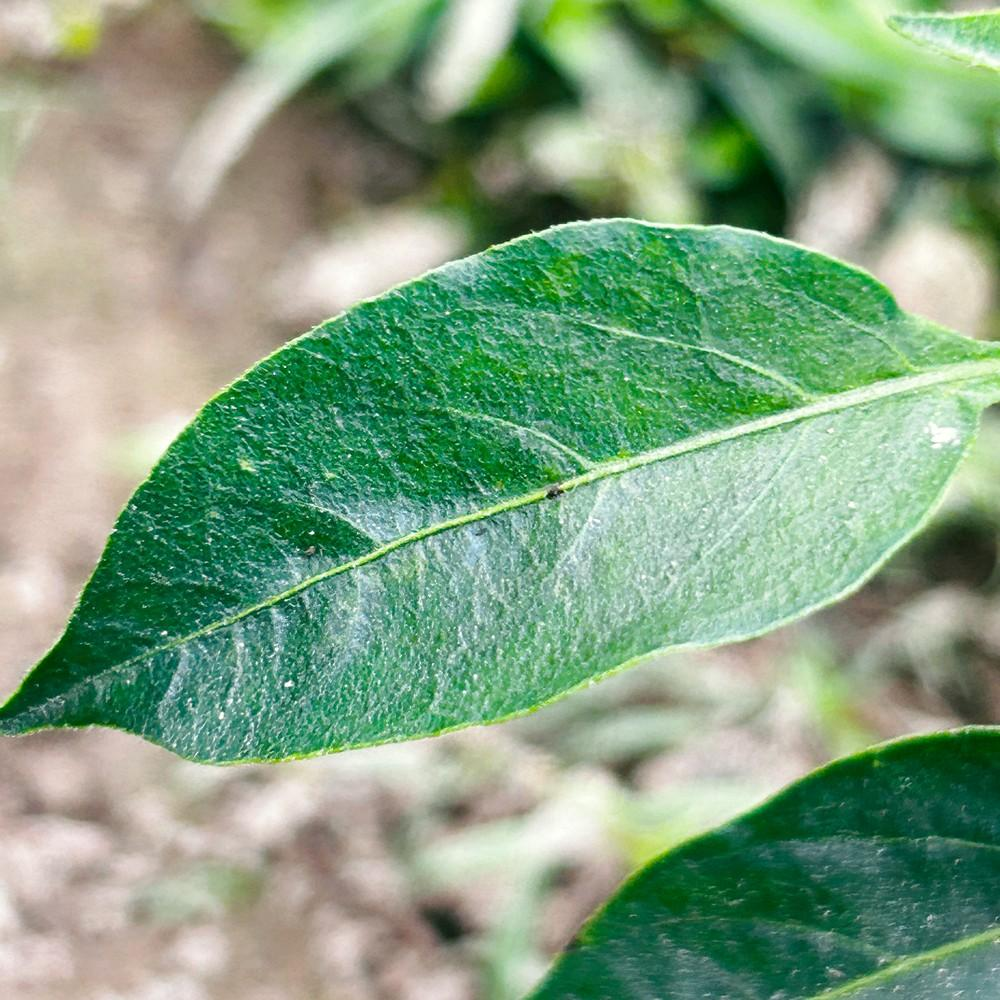Daun Cabai Sehat: (1, 213, 999, 767), (520, 722, 999, 998)
